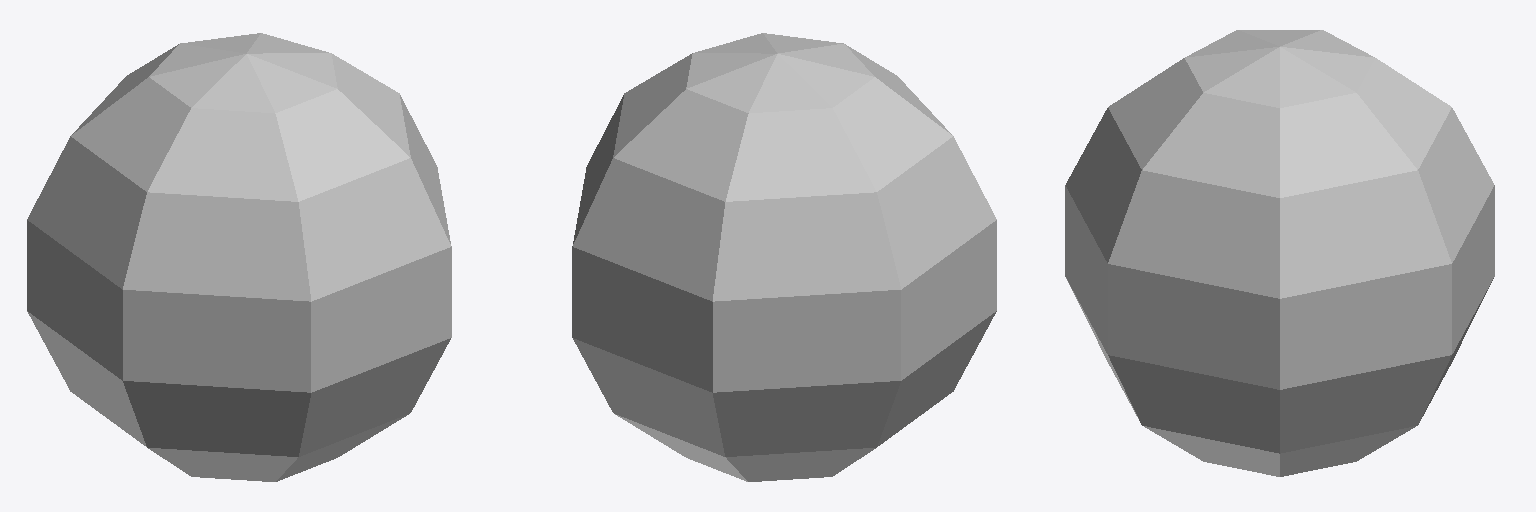
File: magicWand_stick2.obj
3 views of the same model, side by side, from view 1: azimuth 30°, elevation 25°; view 2: azimuth 150°, elevation 25°; view 3: azimuth 270°, elevation 25° (orthographic).
Visible parts, largest first — view 1: magicWand_stick2; view 2: magicWand_stick2; view 3: magicWand_stick2.
Part boxes in pixels (bbox=[...]): magicWand_stick2: bbox=[27, 33, 451, 481]; magicWand_stick2: bbox=[572, 33, 996, 481]; magicWand_stick2: bbox=[1065, 30, 1494, 476].
Size of the model in its own units: 0.2347 by 0.2532 by 0.2407.